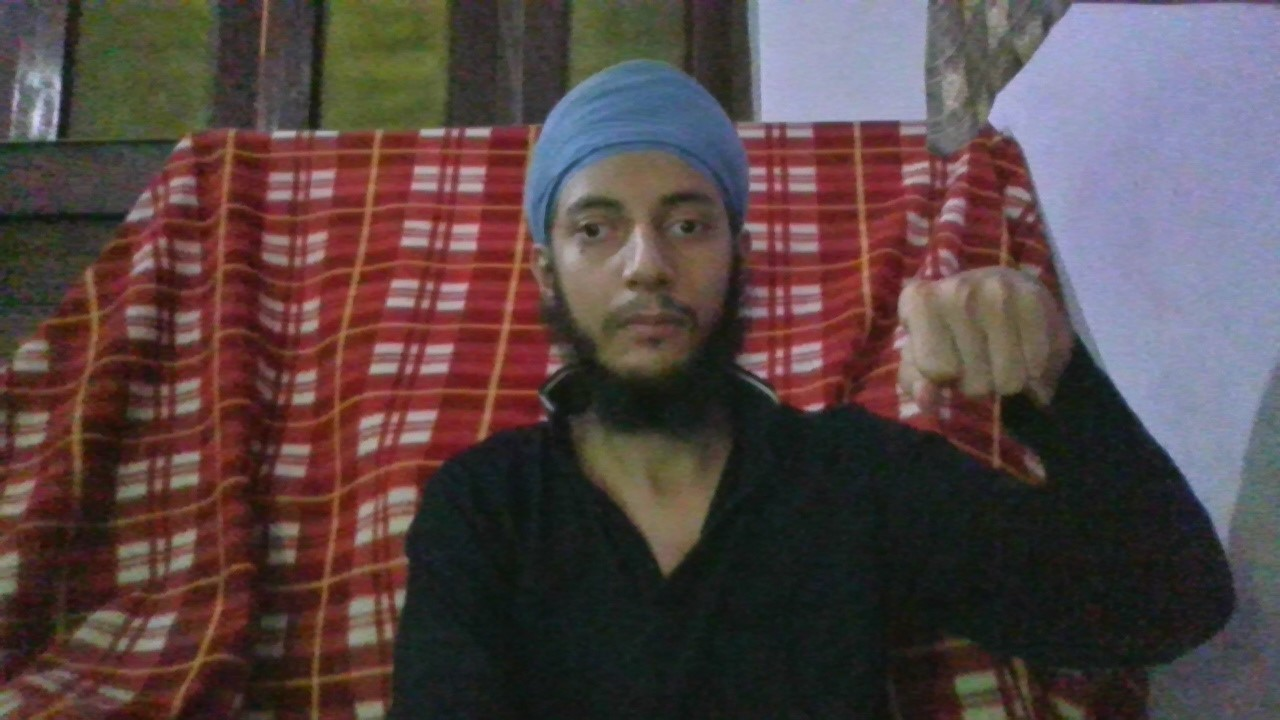Yes: (899, 268, 1052, 411)
